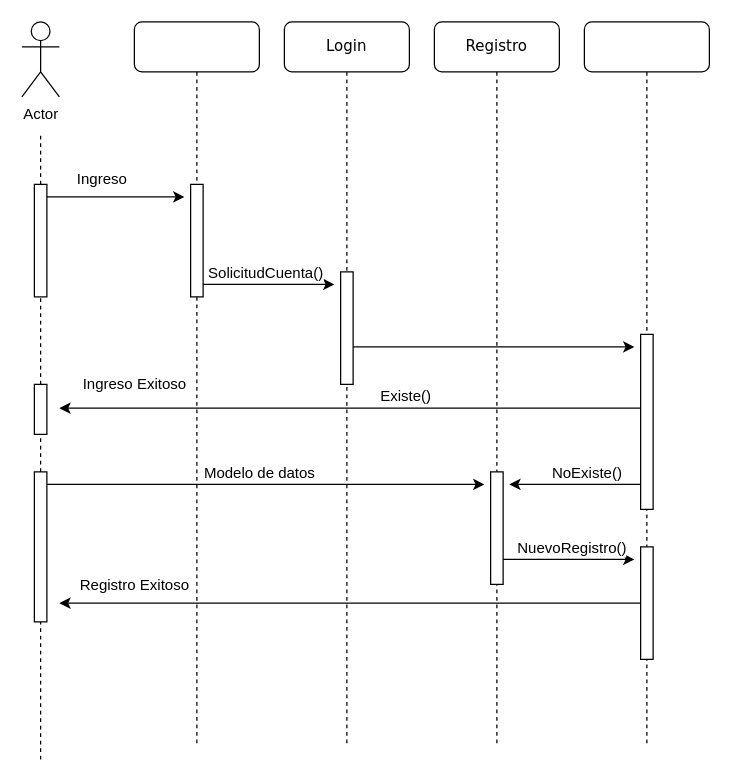
This 731x783 diagram has some shape labels left out. The box of each missing label's shape, as (x1, y1, x2, y2) in pixels:
DB: (583, 21, 709, 747)
Interfaz: (133, 21, 259, 747)
